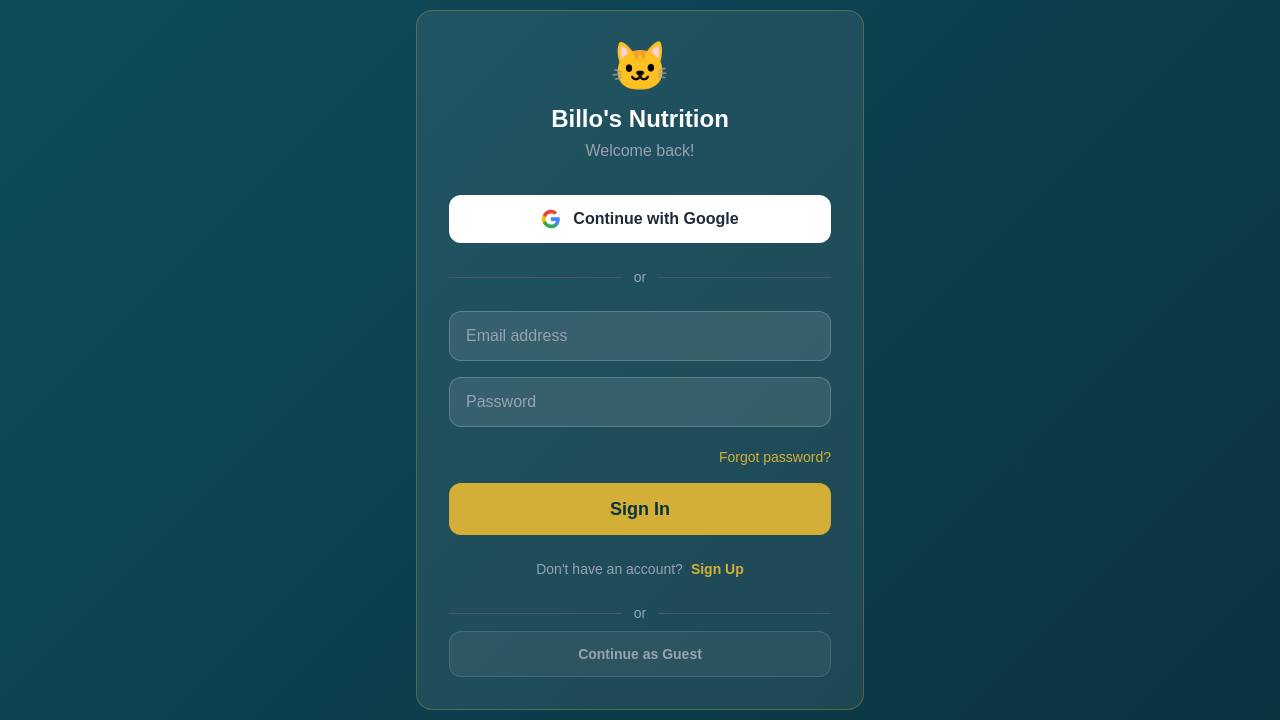
Scenario: LoginPage › shows error on failed sign in
The image size is (1280, 720).
Type "a@b.com" into the field with placeholder "Email address" at (640, 336), box x1=449 y1=311 x2=831 y2=361
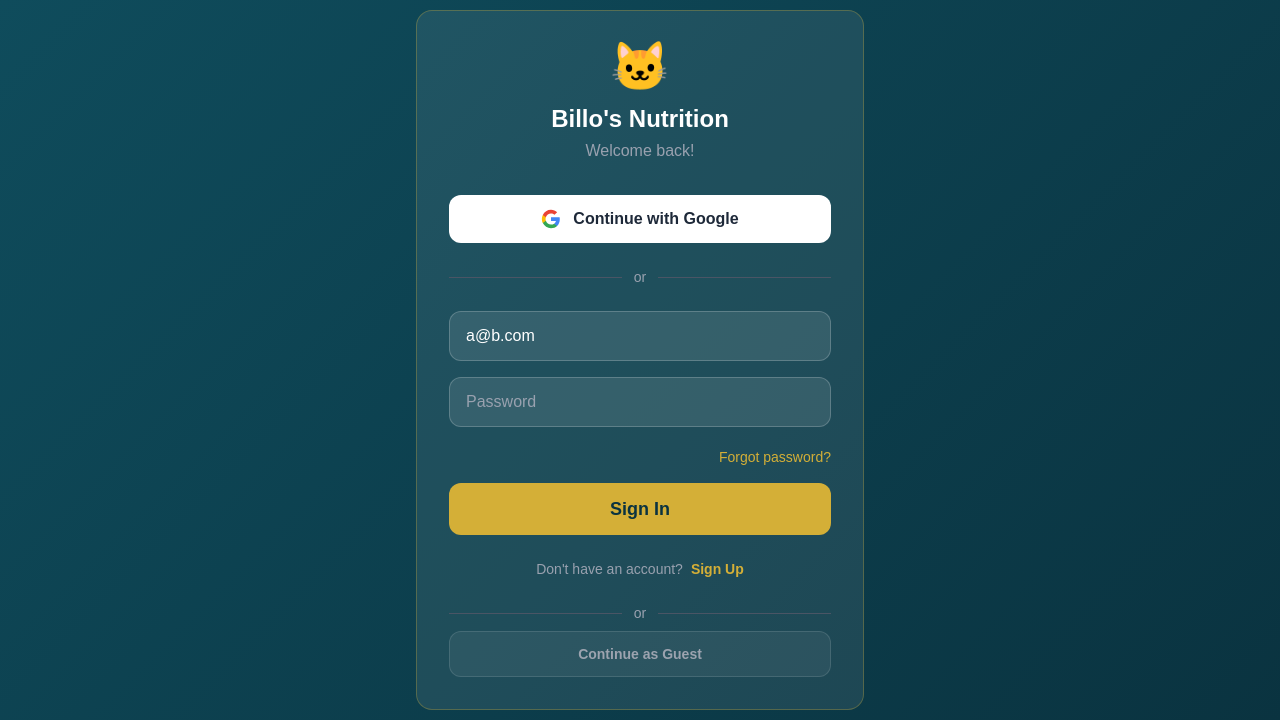
Type "wrong" into the password field with placeholder "Password" at (640, 402), box x1=449 y1=377 x2=831 y2=427
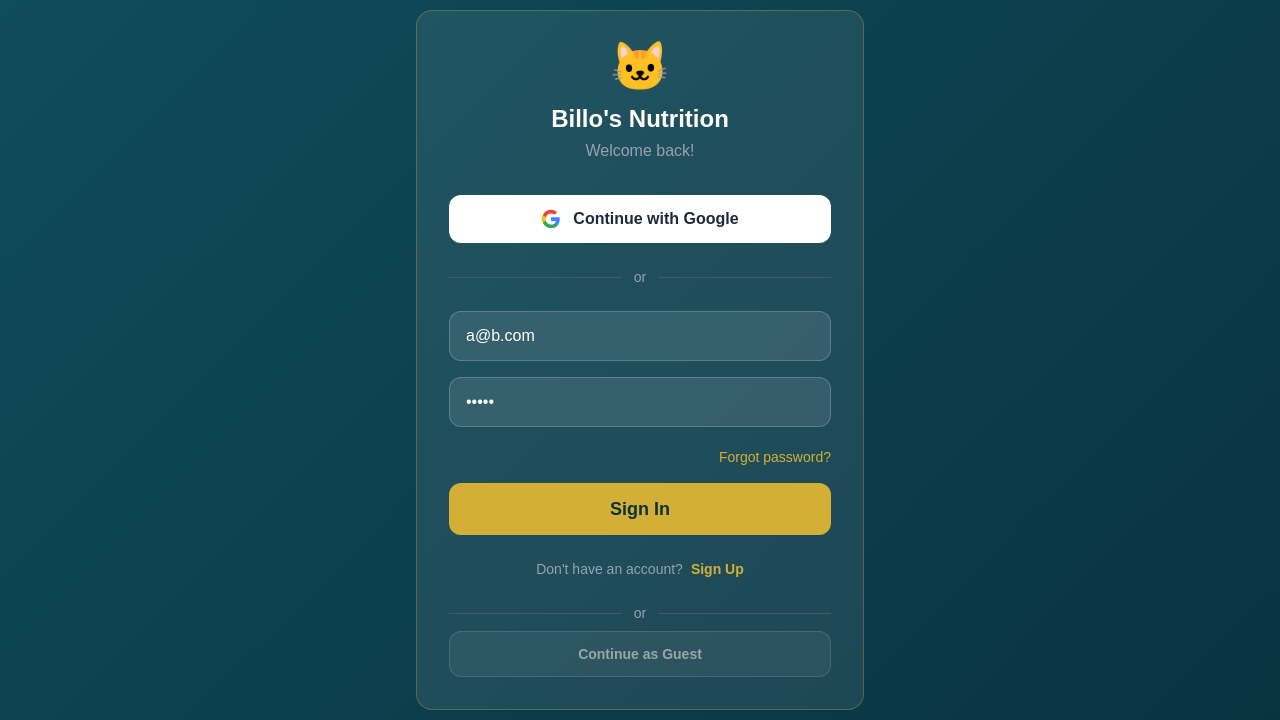
Click the button "Sign In" at (640, 509), box x1=449 y1=483 x2=831 y2=535
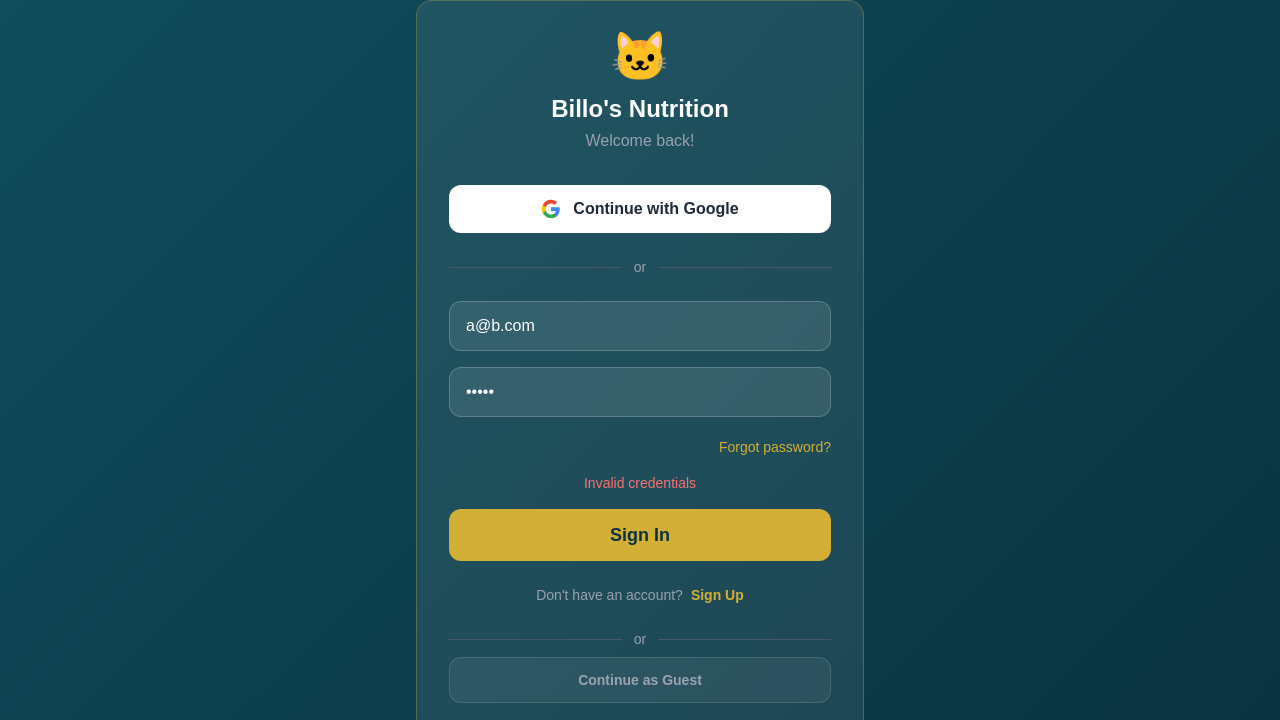
Check: the text "Invalid credentials" is shown, box x1=584 y1=475 x2=696 y2=491
